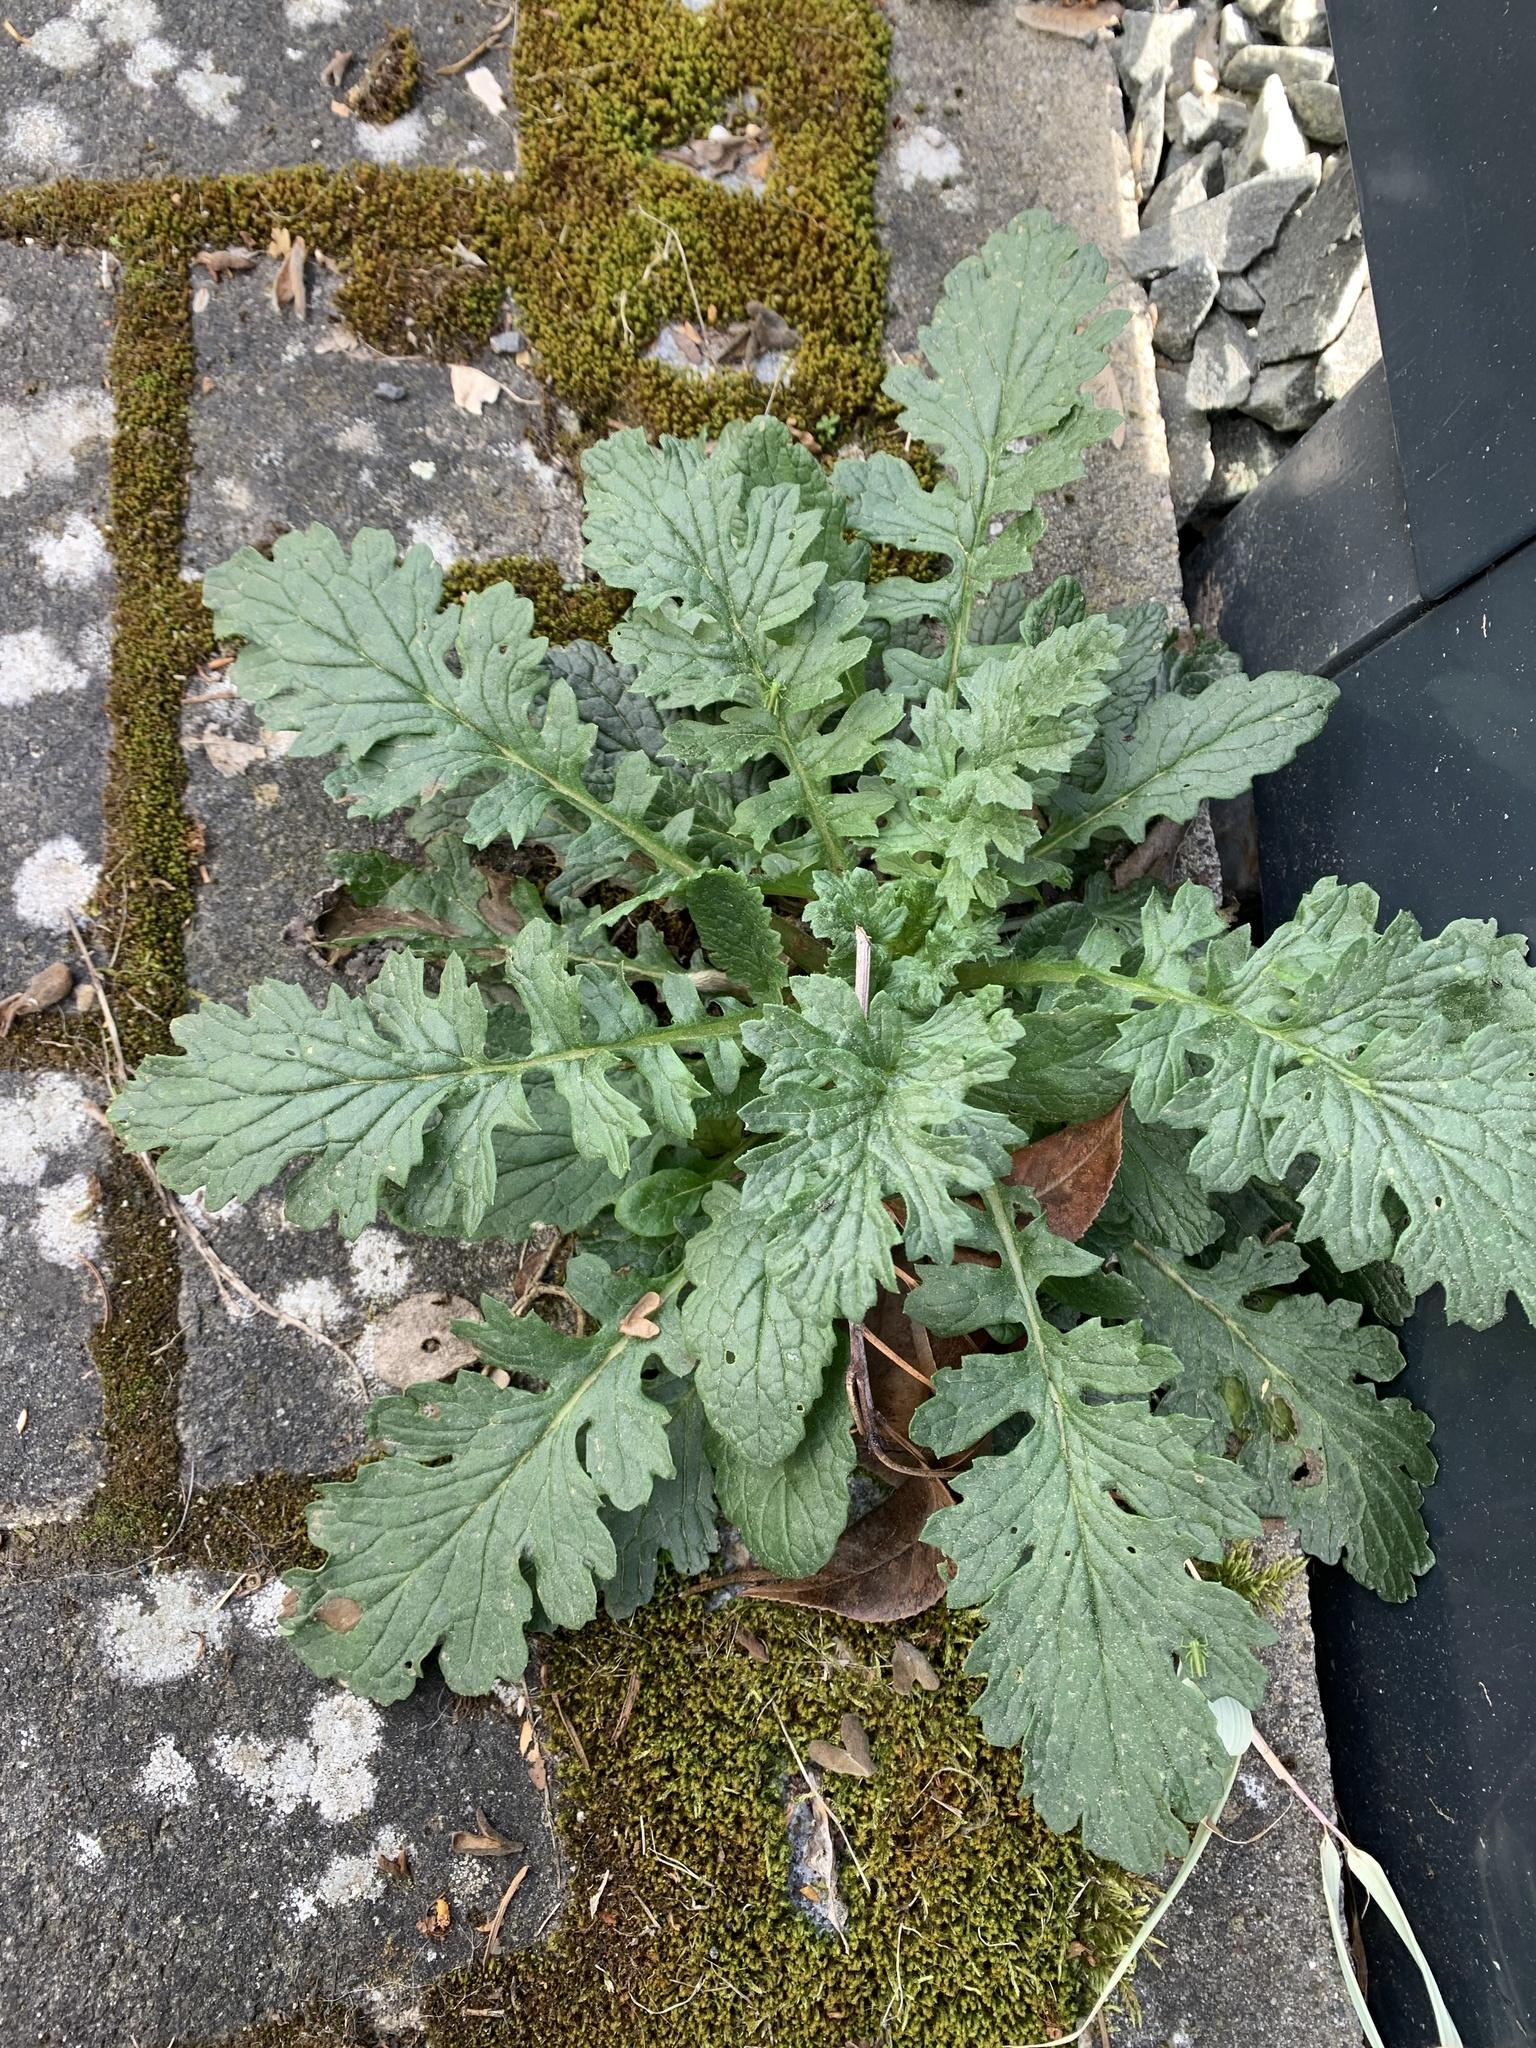Jacobaea vulgaris: (81, 190, 1536, 1896)
